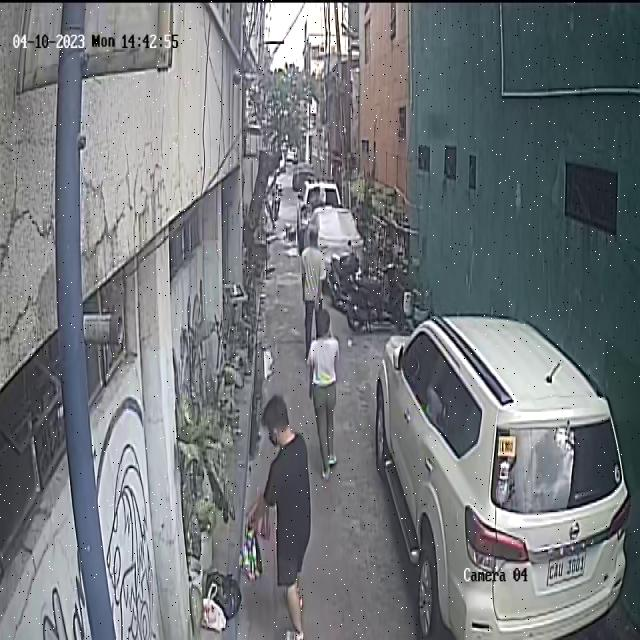garbage_dumping: (197, 566, 241, 632), (238, 514, 266, 580)
